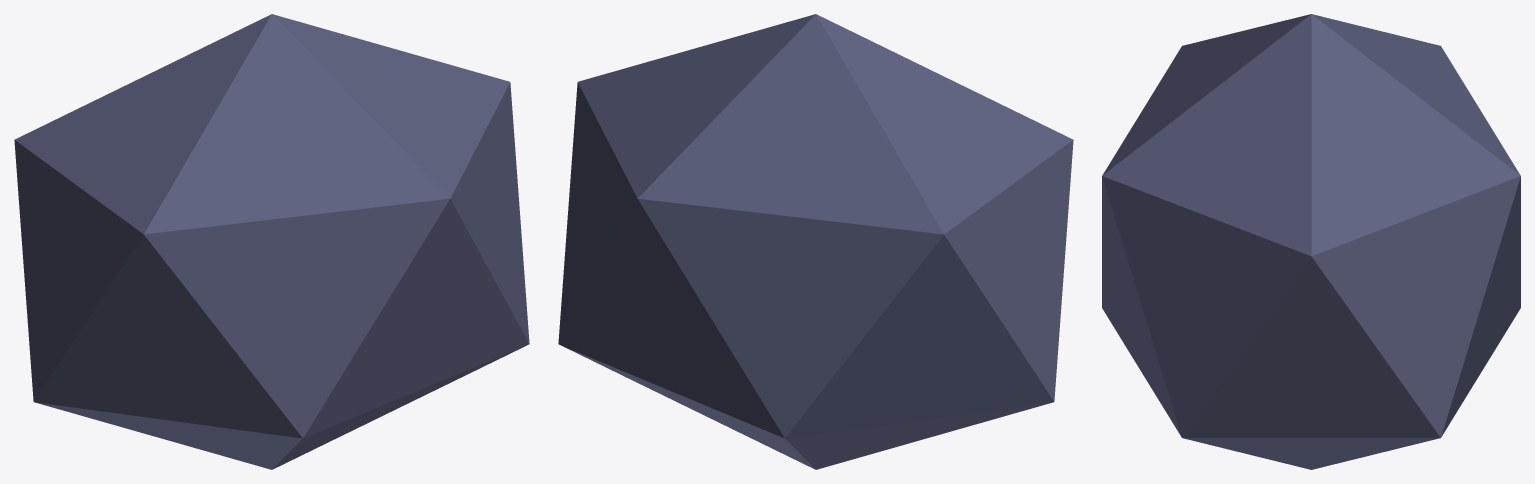
The model's file is rock.glb.
3 renders of one model, left to right at view 1: azimuth 30°, elevation 25°; view 2: azimuth 150°, elevation 25°; view 3: azimuth 270°, elevation 25°, orthographic.
Visible parts, largest first — view 1: rock_faceted; view 2: rock_faceted; view 3: rock_faceted.
Part boxes in pixels (x1,y1,x2,y2): rock_faceted: [14, 14, 529, 469]; rock_faceted: [558, 14, 1073, 469]; rock_faceted: [1102, 14, 1520, 469].
Size of the model in its own units: 2.06 by 1.88 by 1.57.
